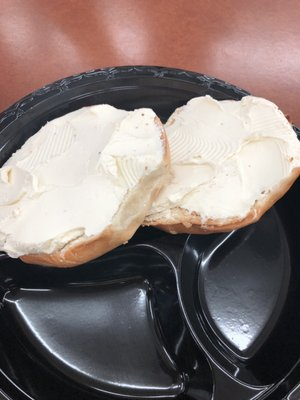sushi: (0, 64, 300, 372)
